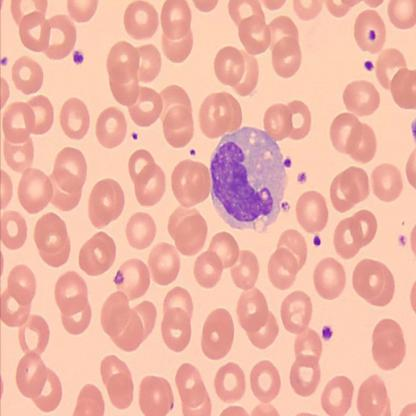Monocyte: (209, 125, 289, 233)
